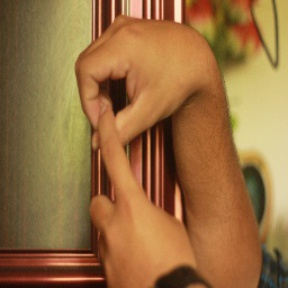Q: (74, 10, 216, 243)
